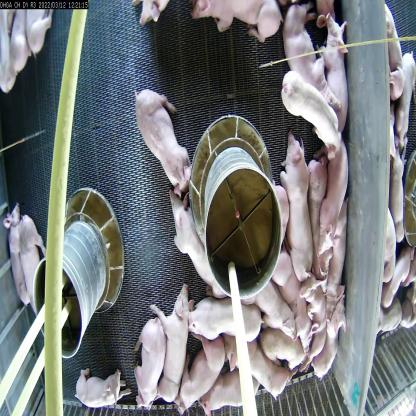Pig: (130, 74, 186, 194), (282, 19, 336, 118), (275, 75, 340, 156), (168, 192, 219, 295), (190, 293, 263, 357), (153, 280, 189, 407), (282, 141, 318, 266), (192, 0, 284, 48), (312, 294, 354, 393), (233, 332, 284, 405), (242, 278, 296, 346), (21, 224, 56, 324), (323, 10, 353, 126), (128, 328, 172, 402), (182, 336, 223, 415), (257, 310, 303, 376), (77, 353, 124, 416), (322, 147, 348, 256), (197, 369, 257, 416), (10, 203, 29, 312), (306, 152, 328, 244)
